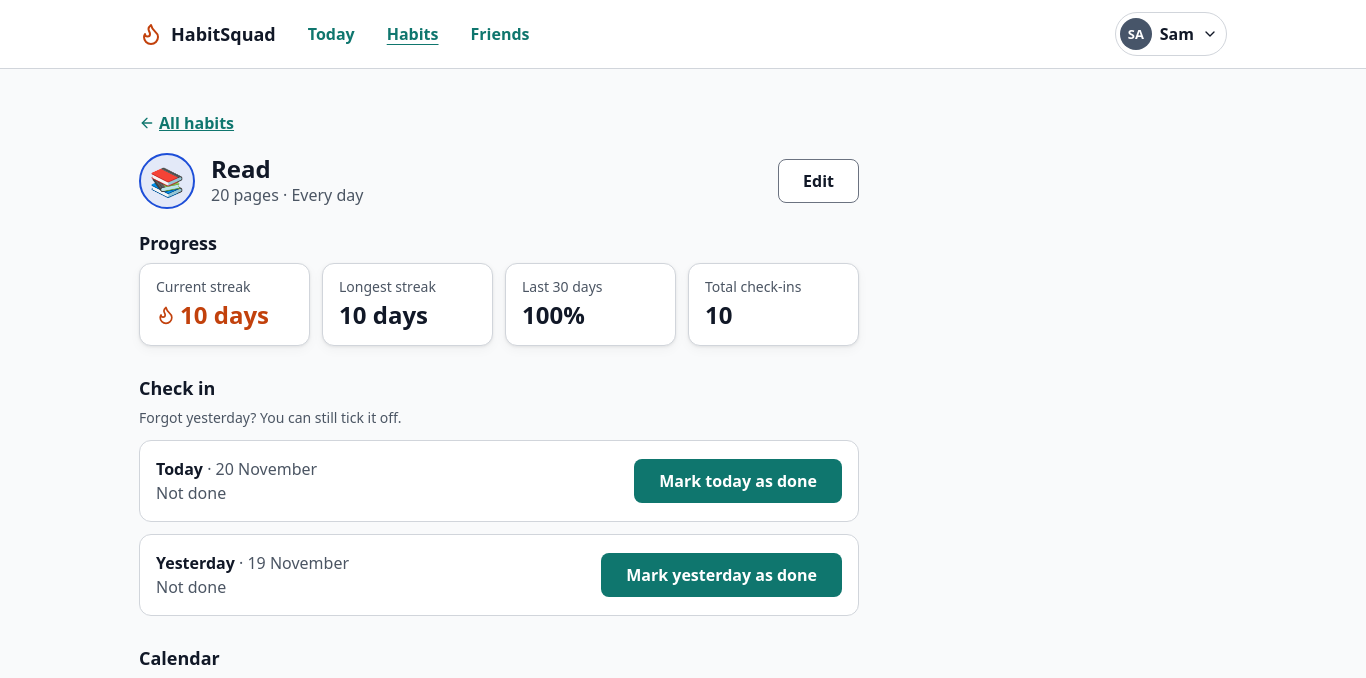
Test case: HabitDetailPage › can tick off yesterday late
Expected: the heading "Read" is shown, [211,152,271,185]
Expected: the text "· 19 November" is shown, [239,552,349,574]
Click the button "Mark yesterday as done": (722, 575) [601,553,842,597]
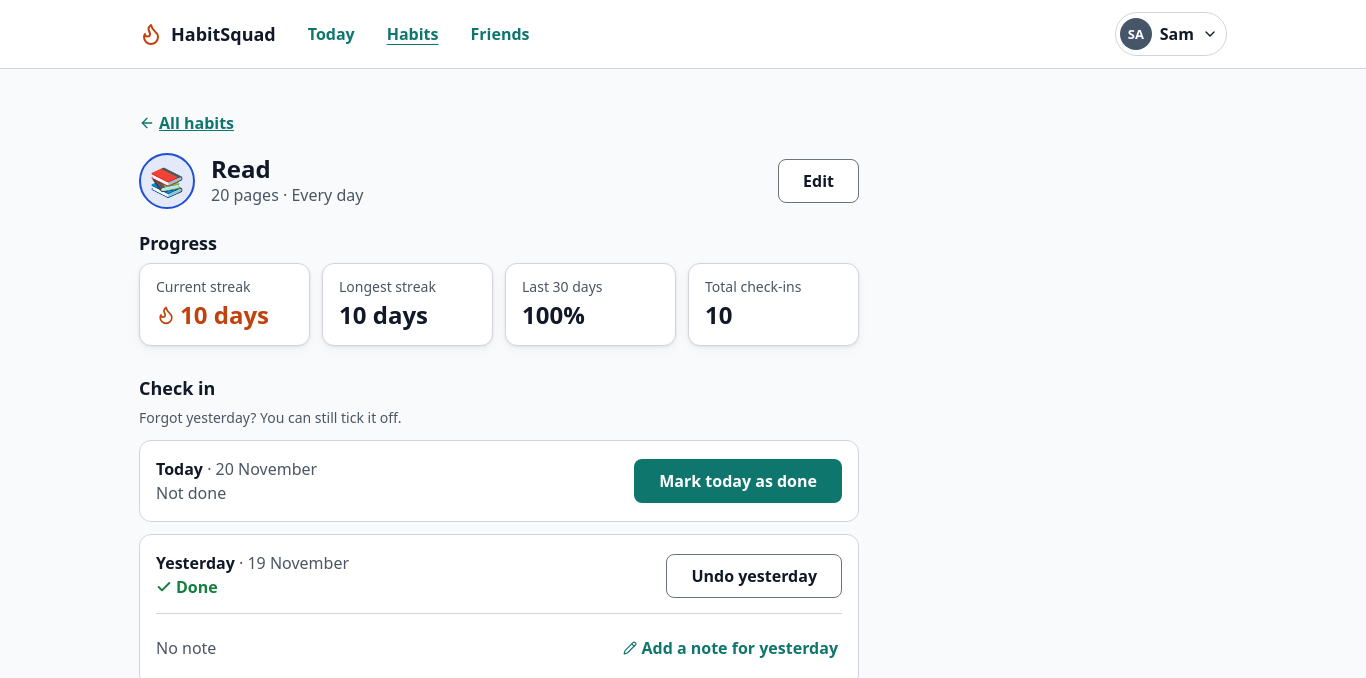
Result: the button "Undo yesterday" is shown at [666,554,842,598]
